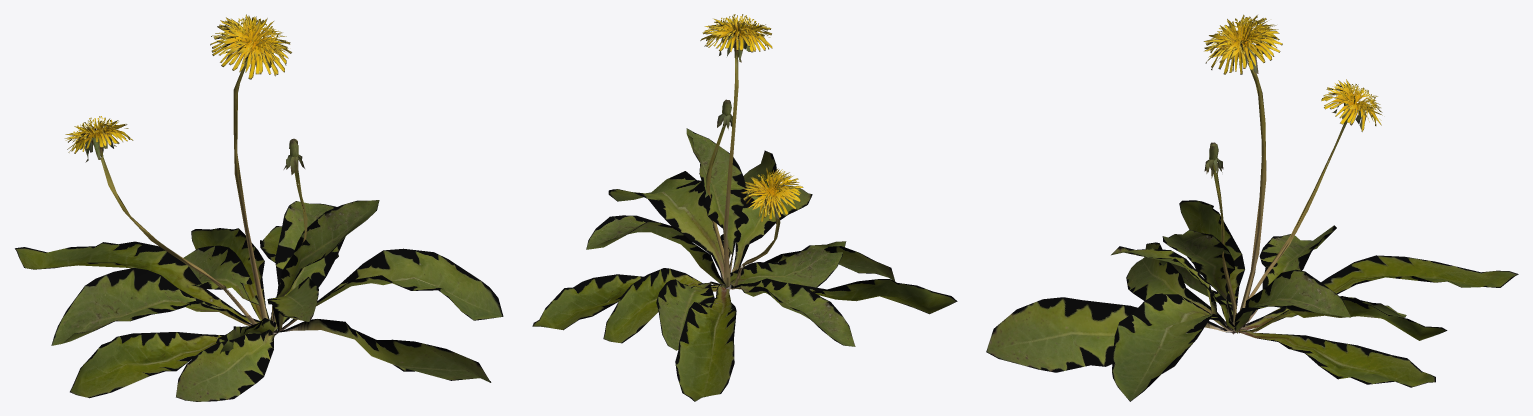
Rendered from dandelion_01_a.glb.
3 views of the same model, side by side, from view 1: azimuth 30°, elevation 25°; view 2: azimuth 150°, elevation 25°; view 3: azimuth 270°, elevation 25° (orthographic). The views are drawn at different scales.
Visible parts, largest first — view 1: dandelion_01_a_LOD0; view 2: dandelion_01_a_LOD0; view 3: dandelion_01_a_LOD0.
Boxes of the visible parts, <box> form: dandelion_01_a_LOD0: <box>15,14,503,401</box>; dandelion_01_a_LOD0: <box>532,14,957,401</box>; dandelion_01_a_LOD0: <box>986,14,1518,401</box>.
Bounding box in the file's own units: 0.2217 × 0.1644 × 0.2575.
Materials: 1 (1 with a texture image).
